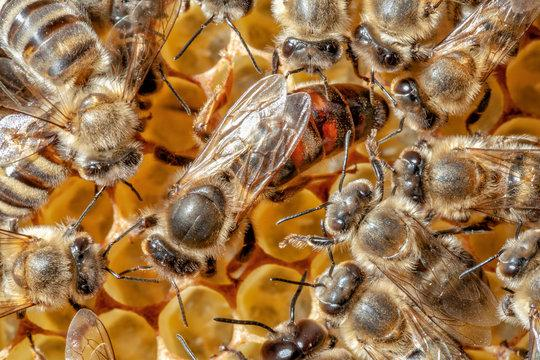Queen-Bee: (141, 74, 388, 283)
worker-bee: (0, 0, 180, 219), (325, 178, 498, 345), (391, 0, 539, 129), (313, 261, 462, 359), (392, 134, 539, 224), (0, 224, 110, 316)
